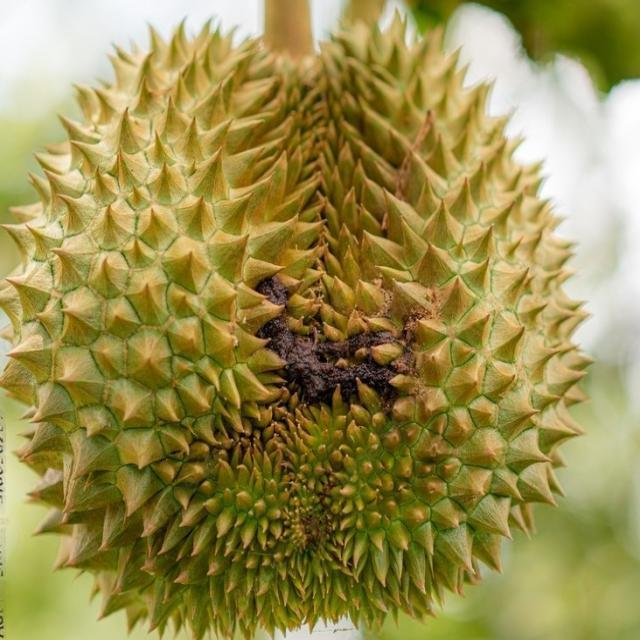defective: (8, 19, 593, 639)
